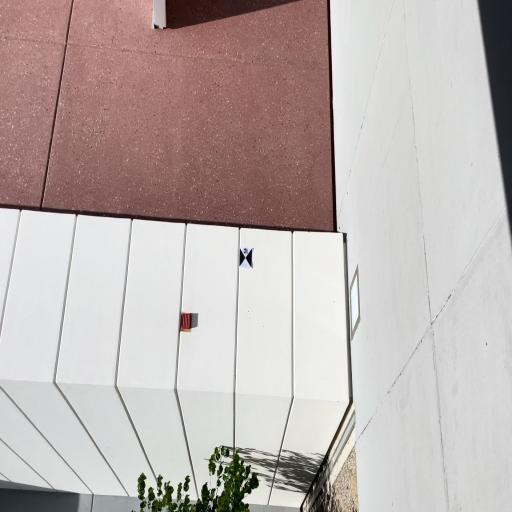target9: (239, 248, 252, 268)
